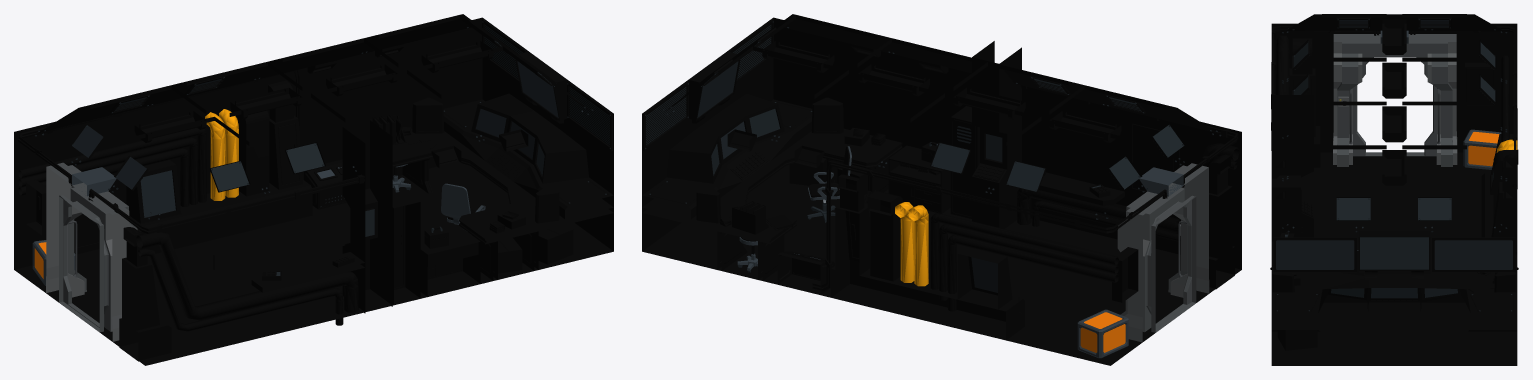
File: ROOMKEY_Find.fbx
3 renders of one model, left to right at view 1: azimuth 30°, elevation 25°; view 2: azimuth 150°, elevation 25°; view 3: azimuth 270°, elevation 25°, orthographic. The views are drawn at different scales.
Visible parts, largest first — view 1: room, comp block.001, comp.003, ROOMKEY_Find, room.006, Plane, shkafchik.002, room.004, Cube.003, room.005, ventil.008, Cube.005 (+9 smaller); view 2: room, comp block.001, comp.003, ROOMKEY_Find, Plane, room.006, shkafchik.002, Cube.003, ventil.008, room.004, Cube, room.005 (+9 smaller); view 3: room, comp.003, ROOMKEY_Find, Plane, room.006, Cube.003, comp block.001, Cube, ventil.008, shkafchik.002, ventil.009, room.005 (+8 smaller).
Part boxes in pixels (<box>): room: <box>14,14,613,365</box>; comp block.001: <box>18,80,346,253</box>; comp.003: <box>443,19,613,218</box>; ROOMKEY_Find: <box>46,162,137,341</box>; room.006: <box>342,120,392,313</box>; Plane: <box>392,128,613,280</box>; shkafchik.002: <box>392,190,480,304</box>; room.004: <box>136,231,358,331</box>; Cube.003: <box>134,41,493,142</box>; room.005: <box>119,227,171,361</box>; ventil.008: <box>70,76,325,192</box>; Cube.005: <box>497,210,573,273</box>; room: <box>642,14,1241,365</box>; comp block.001: <box>777,174,1118,339</box>; comp.003: <box>642,19,812,218</box>; ROOMKEY_Find: <box>1117,163,1209,342</box>; Plane: <box>642,128,902,280</box>; room.006: <box>972,41,1021,228</box>; shkafchik.002: <box>888,106,979,218</box>; Cube.003: <box>762,41,1121,142</box>; ventil.008: <box>930,76,1185,192</box>; room.004: <box>1017,143,1239,242</box>; Cube: <box>1077,247,1138,358</box>; room.005: <box>1208,154,1234,289</box>; room: <box>1271,14,1518,365</box>; comp.003: <box>1271,230,1517,313</box>; ROOMKEY_Find: <box>1333,34,1457,166</box>; Plane: <box>1270,266,1518,331</box>; room.006: <box>1271,95,1313,240</box>; Cube.003: <box>1382,19,1406,185</box>; comp block.001: <box>1481,55,1517,265</box>; Cube: <box>1463,62,1501,169</box>; ventil.008: <box>1292,17,1496,104</box>; shkafchik.002: <box>1271,175,1302,265</box>; ventil.009: <box>1336,197,1451,220</box>; room.005: <box>1289,38,1320,167</box>.
Bounding box in the file's own units: 9.73 × 3.66 × 4.78.
